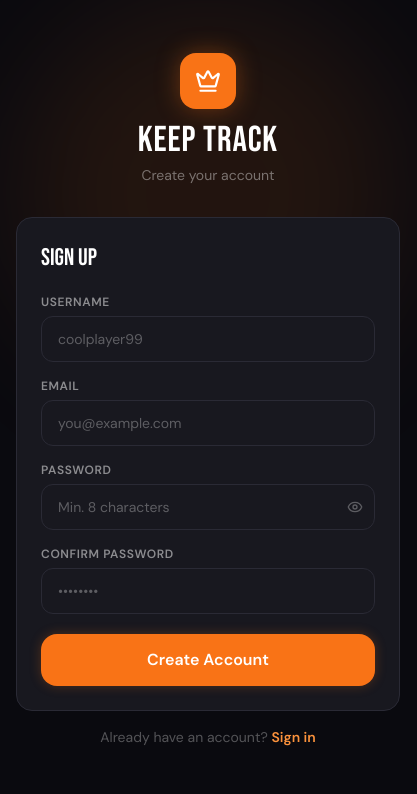
Test: RegisterPage › shows validation error for short username
This screenshot has width=417, height=794.
Type "ab" into the field with placeholder "coolplayer99" at (208, 339), box x1=41 y1=316 x2=375 y2=362
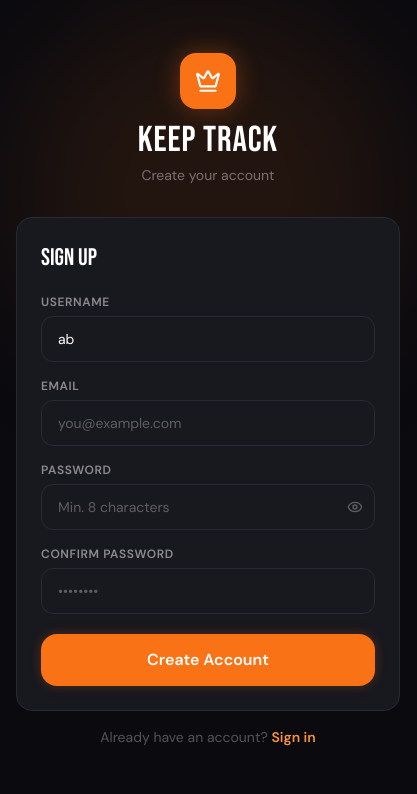
Type "t@t.com" into the field with placeholder "you@example.com" at (208, 423), box x1=41 y1=400 x2=375 y2=446
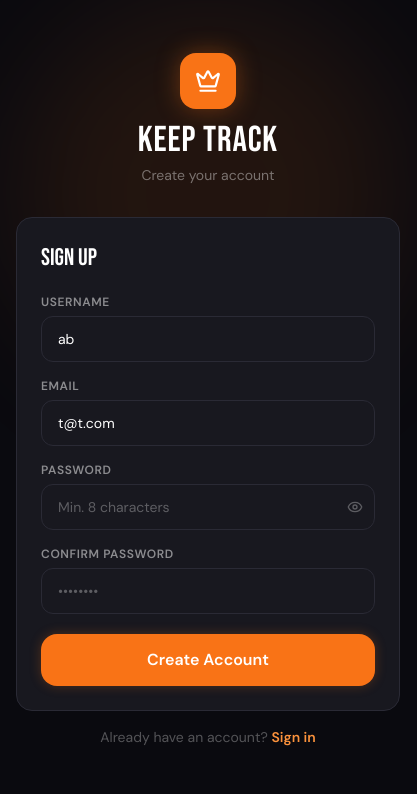
Type "password1" into the password field with placeholder "Min. 8 characters" at (208, 507), box x1=41 y1=484 x2=375 y2=530
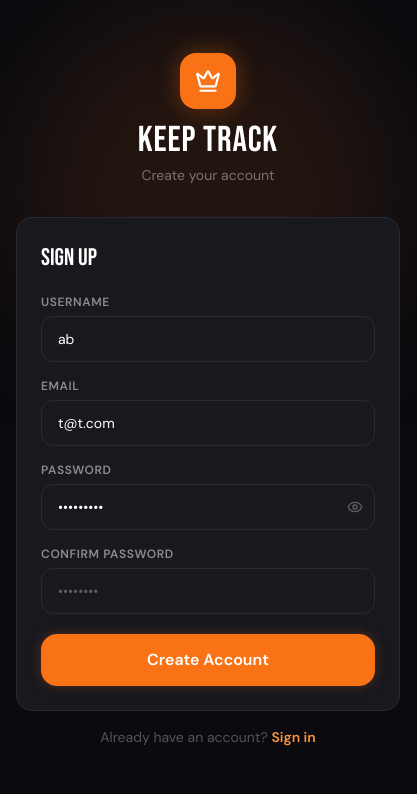
Type "password1" into the password field with placeholder "••••••••" at (208, 591), box x1=41 y1=568 x2=375 y2=614
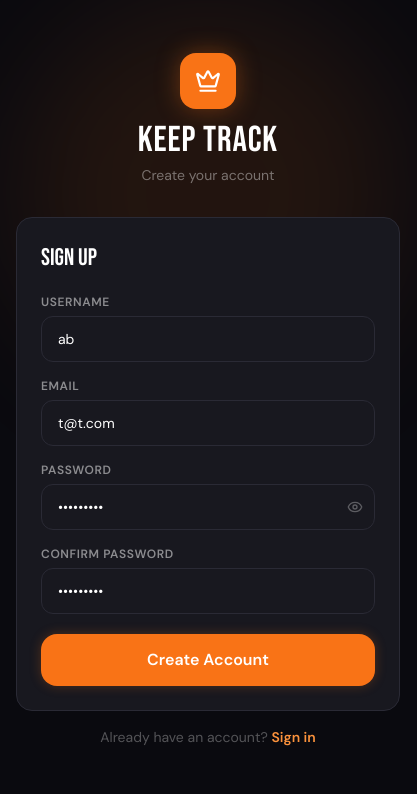
Click the button "Create Account" at (208, 660), box x1=41 y1=634 x2=375 y2=686
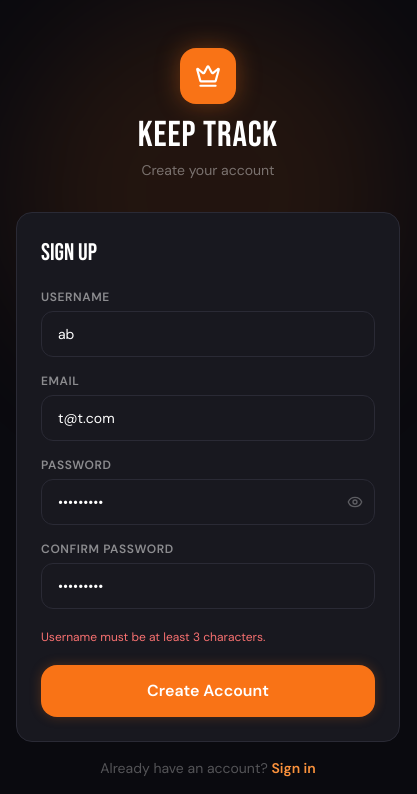
Expected: the text "Username must be at least 3 characters." is shown, x1=41 y1=629 x2=265 y2=645
